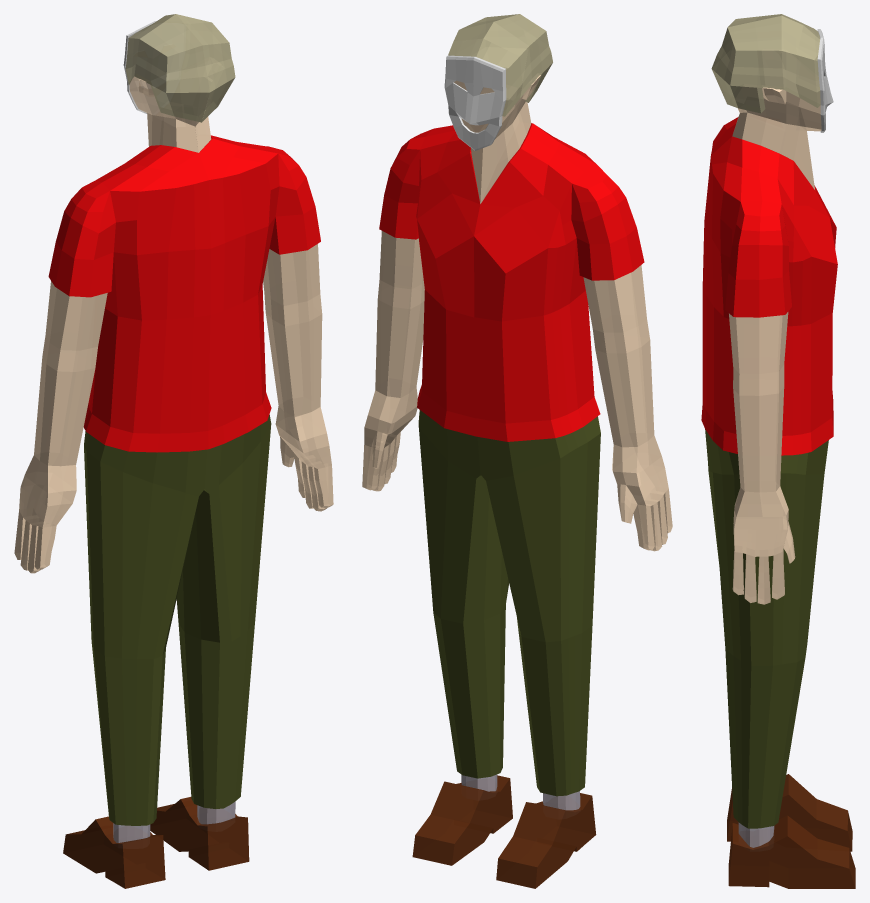
Rendered from Jacob 1.fbx.
3 views of the same model, side by side, from view 1: azimuth 30°, elevation 25°; view 2: azimuth 150°, elevation 25°; view 3: azimuth 270°, elevation 25° (orthographic). The views are drawn at different scales.
Parts seen in each view (by area): view 1: Face; view 2: Face; view 3: Face.
Part boxes in pixels (box(x1,y1,x2,y2)): Face: box(14, 14, 333, 888); Face: box(362, 14, 672, 888); Face: box(701, 14, 855, 888).
Size of the model in its own units: 160 by 71.91 by 440.
